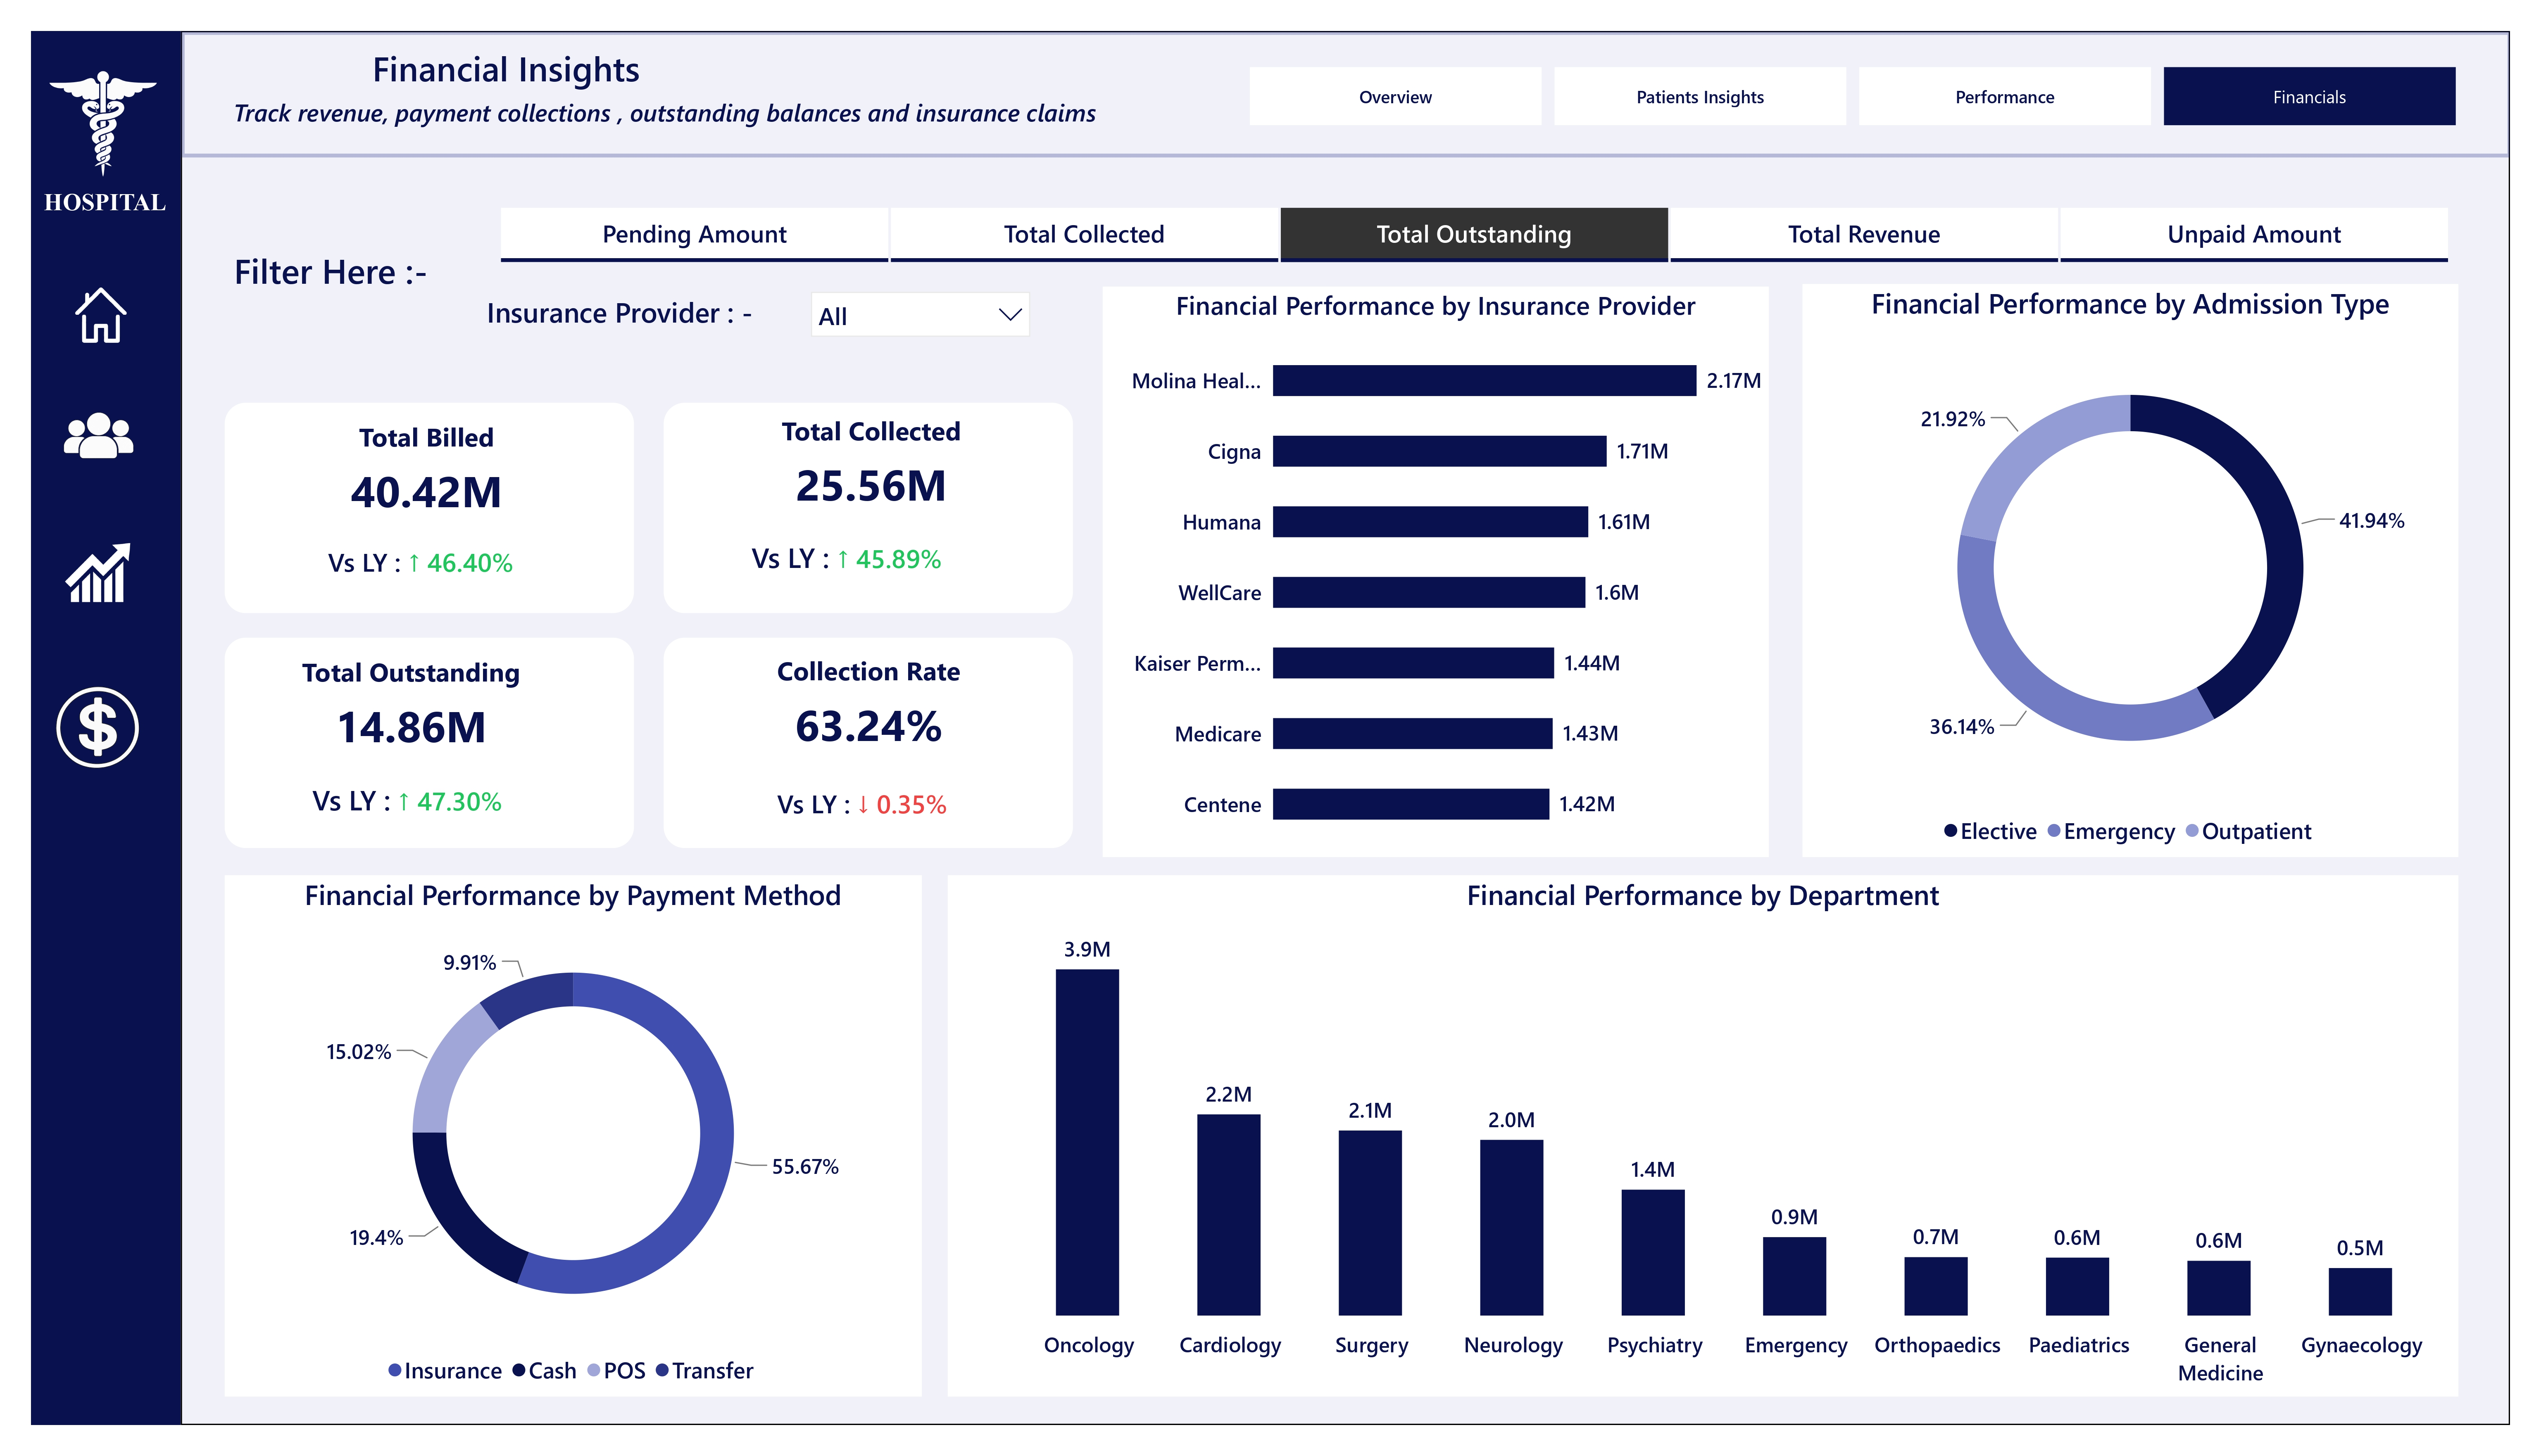

The dashboard page shown, as its layout file describes it:
{"tool":"powerbi","page":{"name":"Financials","canvas":[1920,1080],"ordinal":3},"visuals":[{"type":"shape","box":[116,0,1803.8,1080],"z":0},{"type":"pageNavigator","box":[944,28,936.7,45],"z":1000},{"type":"textbox","box":[152,162,186,48],"z":2000},{"type":"image","box":[12.3,360.9,79.6,116.6],"z":3000},{"type":"image","box":[20.6,256.6,63.1,113.9],"z":4000},{"type":"image","box":[0,134.5,108.4,171.5],"z":5000},{"type":"image","box":[16.5,496.7,71.4,86.4],"z":6000},{"type":"textbox","box":[83.8,4.6,568.5,51.5],"z":7000},{"type":"image","box":[12.3,11,87.8,120.8],"z":8000},{"type":"textbox","box":[0,116.6,115.3,34.3],"z":9000},{"type":"textbox","box":[99.5,45.2,787.2,63.3],"z":10000},{"type":"shape","box":[150,288,316.7,162.9],"z":11000},{"type":"textbox","box":[348,198,228,44],"z":12000},{"type":"shape","box":[490,288,316.7,162.9],"z":13000},{"type":"shape","box":[150,470,316.7,162.9],"z":14000},{"type":"shape","box":[490,470,316.7,162.9],"z":15000},{"type":"cardVisual","fields":{"Data":["Fact_Admissions.Total Outstanding"]},"box":[178,470,233.4,170.1],"z":16000},{"type":"cardVisual","fields":{"Data":["Sum(Fact_Admissions.BillAmount_USD)"]},"box":[190,290,233.8,161.2],"z":17000},{"type":"slicer","fields":{"Values":["Financial Metric.Financial Metric"]},"box":[338,130,1558,56],"z":18000},{"type":"cardVisual","fields":{"Data":["Fact_Admissions.Total Collected"]},"box":[518,284,266.7,166.7],"z":19000},{"type":"cardVisual","fields":{"Data":["Fact_Admissions.Collection Rate"]},"box":[538,464,222,186],"z":20000},{"type":"slicer","fields":{"Values":["Insurance.ProviderName"]},"box":[594,192,190,56],"z":21000},{"type":"donutChart","fields":{"Category":["Fact_Admissions.PaymentMethod"],"Y":["Fact_Admissions.Total Outstanding"]},"box":[150,654,540,404],"z":22000},{"type":"donutChart","fields":{"Category":["Fact_Admissions.AdmissionType"],"Y":["Fact_Admissions.Total Outstanding"]},"box":[1372,196,508,444],"z":23000},{"type":"columnChart","fields":{"Category":["Fact_Admissions.Department"],"Y":["Fact_Admissions.Total Outstanding"]},"box":[710,654,1170,404],"z":24000},{"type":"clusteredBarChart","fields":{"Category":["Insurance.ProviderName"],"Y":["Fact_Admissions.Total Outstanding"]},"box":[830,198,516,442],"z":25000},{"type":"shape","box":[115.8,0,1805,97.5],"z":26000}]}

Visuals, with their boxes on the page's 1920x1080 design canvas (x1, y1, x2, y2). These are canvas units, not pixel positions in the 2541x1456 screenshot, which may show the page scaled, cropped or inside an application window:
shape: left=116, top=0, right=1920, bottom=1080
pageNavigator: left=944, top=28, right=1881, bottom=73
textbox: left=152, top=162, right=338, bottom=210
image: left=12, top=361, right=92, bottom=478
image: left=21, top=257, right=84, bottom=370
image: left=0, top=134, right=108, bottom=306
image: left=16, top=497, right=88, bottom=583
textbox: left=84, top=5, right=652, bottom=56
image: left=12, top=11, right=100, bottom=132
textbox: left=0, top=117, right=115, bottom=151
textbox: left=100, top=45, right=887, bottom=108
shape: left=150, top=288, right=467, bottom=451
textbox: left=348, top=198, right=576, bottom=242
shape: left=490, top=288, right=807, bottom=451
shape: left=150, top=470, right=467, bottom=633
shape: left=490, top=470, right=807, bottom=633
cardVisual - Fact_Admissions.Total Outstanding: left=178, top=470, right=411, bottom=640
cardVisual - Sum(Fact_Admissions.BillAmount_USD): left=190, top=290, right=424, bottom=451
slicer - Financial Metric.Financial Metric: left=338, top=130, right=1896, bottom=186
cardVisual - Fact_Admissions.Total Collected: left=518, top=284, right=785, bottom=451
cardVisual - Fact_Admissions.Collection Rate: left=538, top=464, right=760, bottom=650
slicer - Insurance.ProviderName: left=594, top=192, right=784, bottom=248
donutChart - Fact_Admissions.PaymentMethod x Fact_Admissions.Total Outstanding: left=150, top=654, right=690, bottom=1058
donutChart - Fact_Admissions.AdmissionType x Fact_Admissions.Total Outstanding: left=1372, top=196, right=1880, bottom=640
columnChart - Fact_Admissions.Department x Fact_Admissions.Total Outstanding: left=710, top=654, right=1880, bottom=1058
clusteredBarChart - Insurance.ProviderName x Fact_Admissions.Total Outstanding: left=830, top=198, right=1346, bottom=640
shape: left=116, top=0, right=1921, bottom=98
